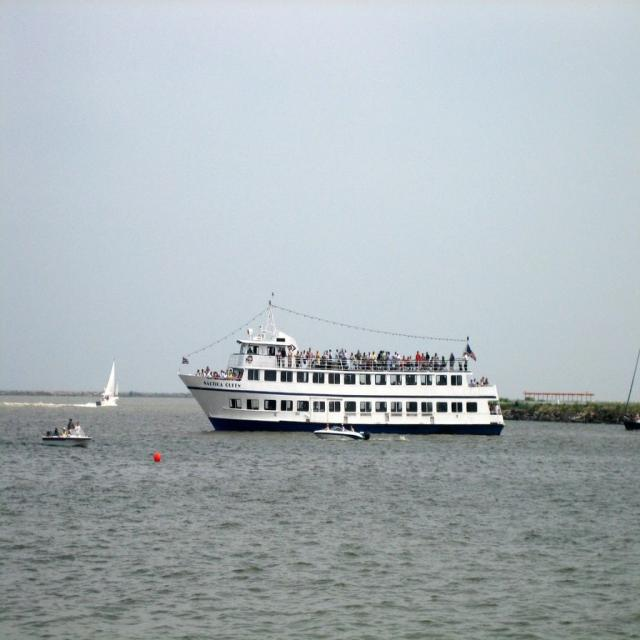passenger ship: (185, 303, 501, 441)
sailboat: (87, 348, 121, 414)
